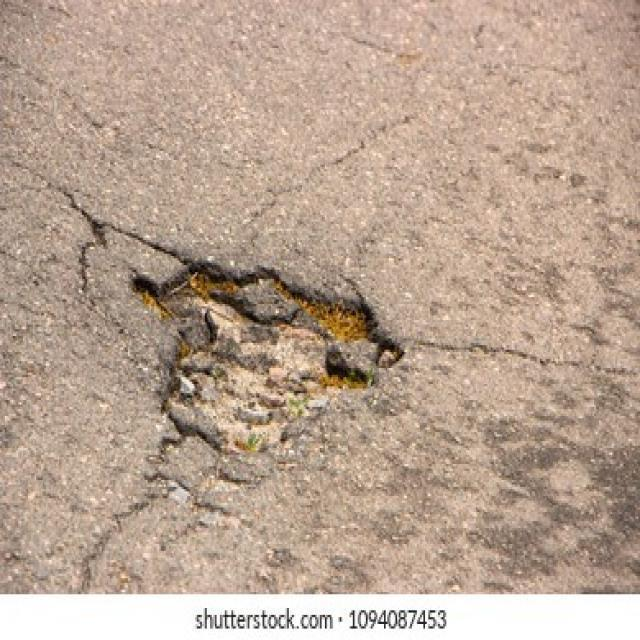Buraco: (120, 253, 410, 464)
